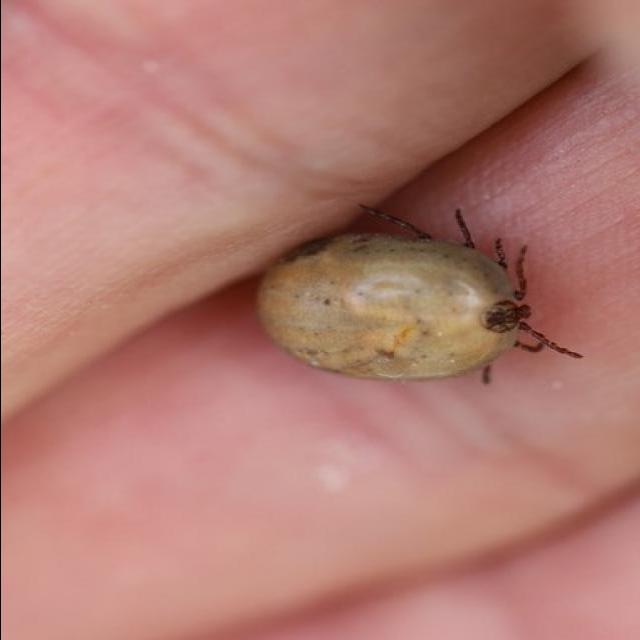Dermacentor Reticulatus-F-Fed: (254, 205, 581, 385)
